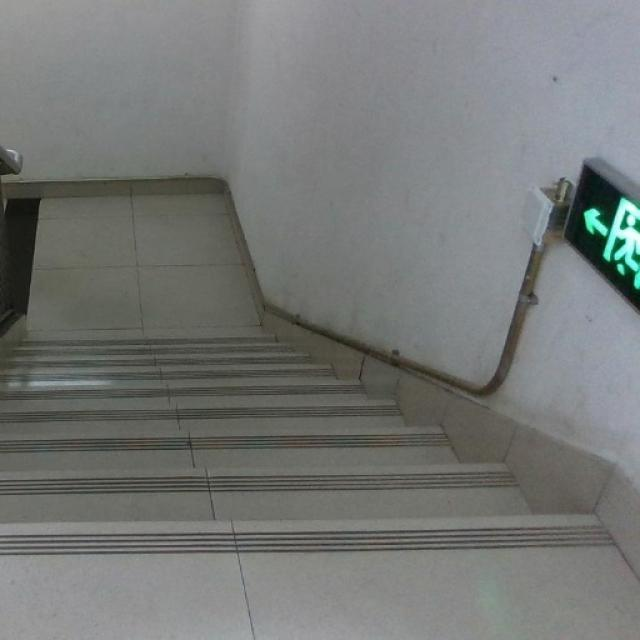stair: (2, 340, 536, 590)
